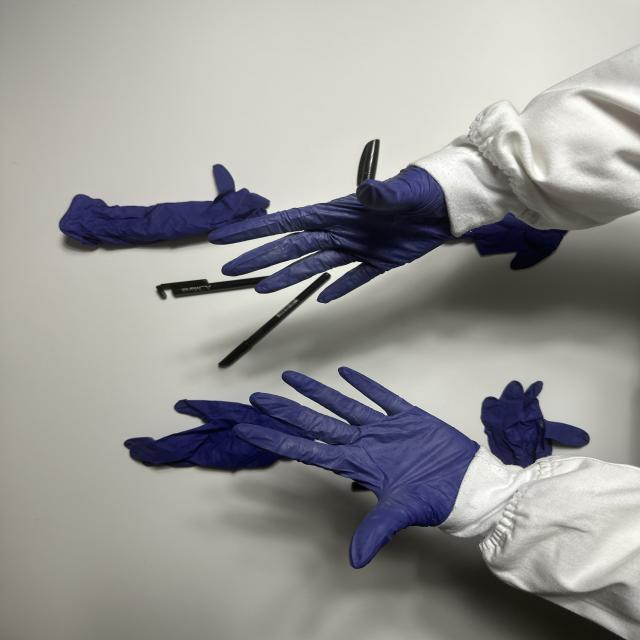gloves_contaminated: (234, 367, 478, 568), (210, 168, 452, 302)
